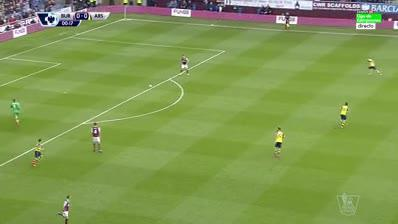futbol: (147, 83, 154, 90)
player: (55, 192, 76, 223), (29, 136, 47, 169), (271, 126, 288, 160), (336, 99, 353, 132), (10, 97, 26, 130), (90, 121, 106, 154), (365, 55, 386, 78), (178, 53, 191, 78)
